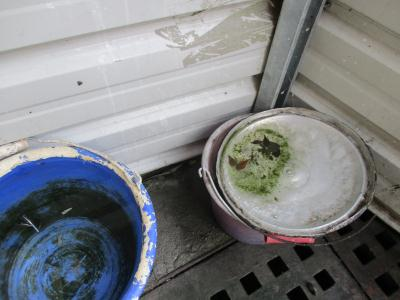bucket: (1, 146, 158, 300)
plate: (214, 103, 379, 239)
